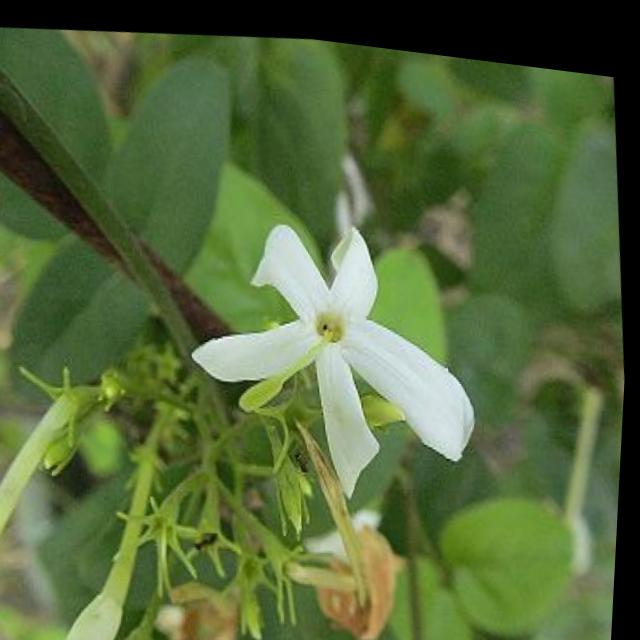Flower: (156, 181, 507, 508)
